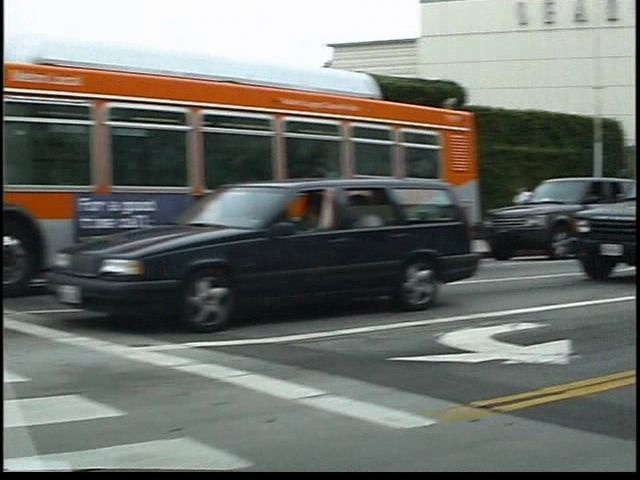person: (528, 178, 557, 242)
